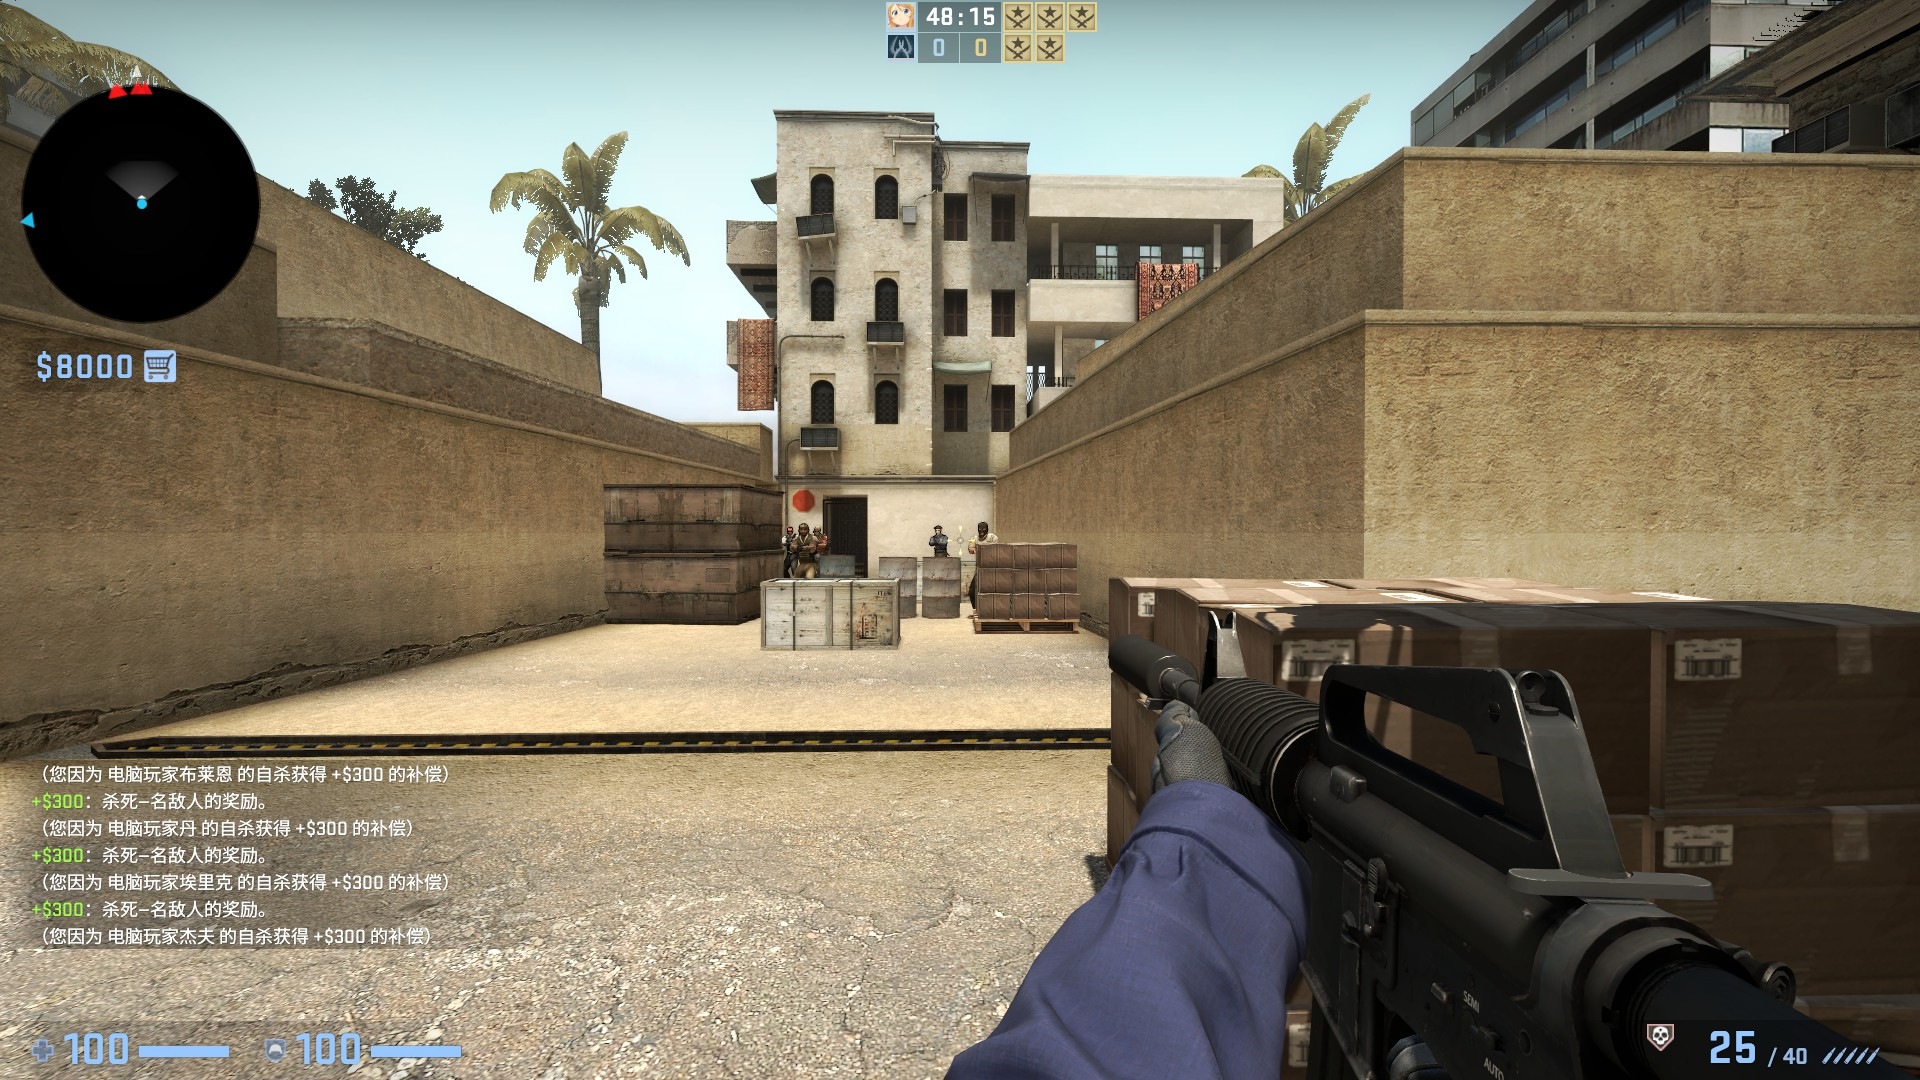head: (974, 520, 988, 538), (797, 522, 807, 535), (932, 524, 942, 536), (812, 525, 820, 534), (786, 525, 793, 535)
